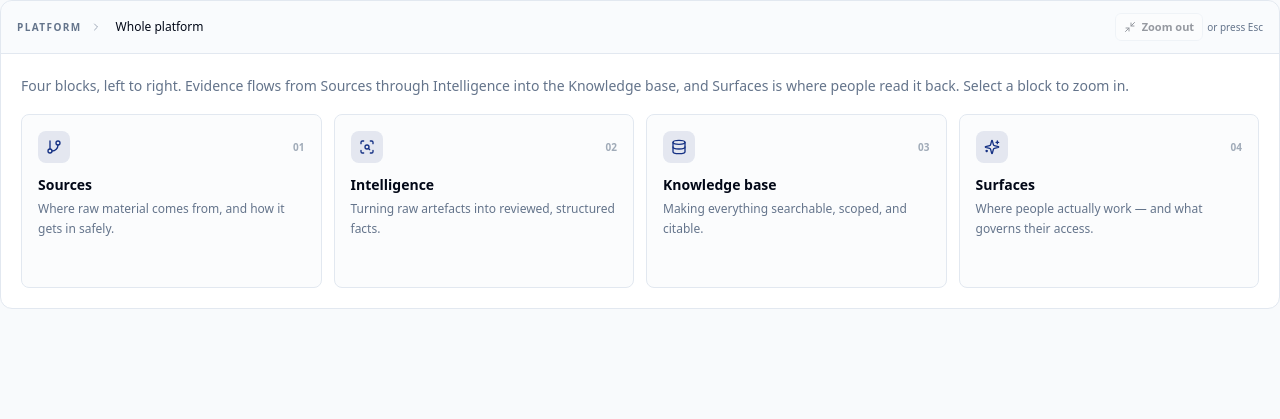
Scenario: ArchitectureExplorer › keeps a breadcrumb back to every level already visited
Click the text "Surfaces" at (1005, 184), box [976, 175, 1035, 194]
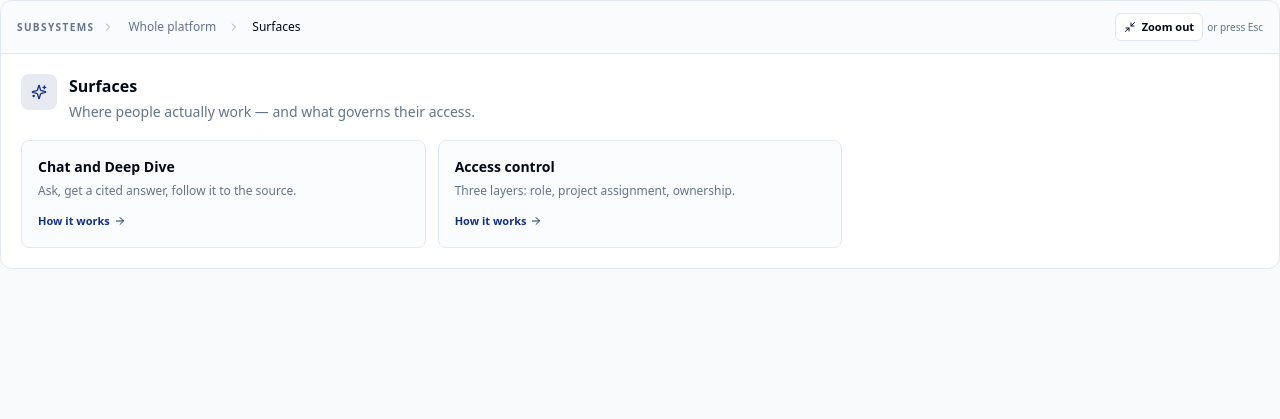
Click the text "Access control" at (505, 166), box [455, 157, 555, 176]
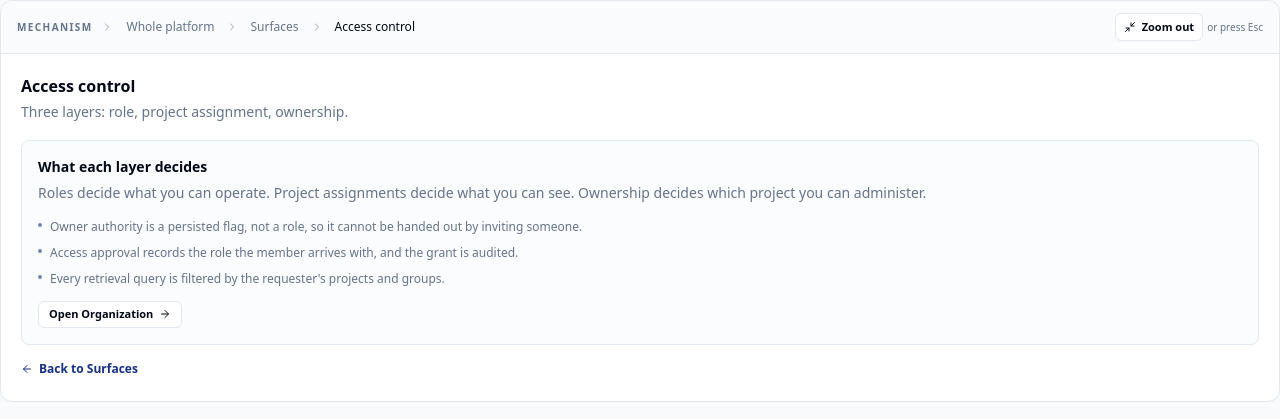
Click the button "Surfaces" at (275, 27), box [244, 17, 305, 37]
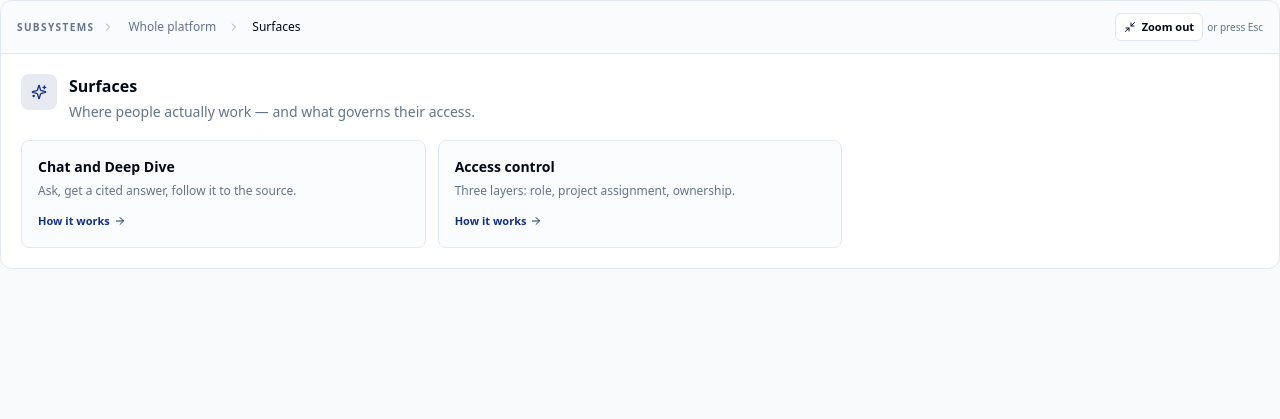
Check: the text "Chat and Deep Dive" is shown, box [38, 157, 175, 176]
Click the button "Whole platform" at (172, 27), box [122, 17, 222, 37]
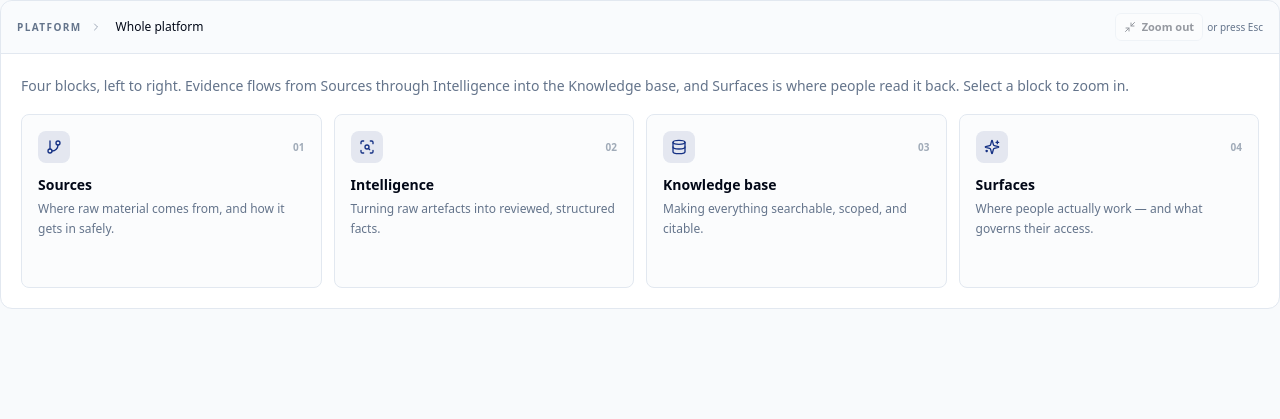
Check: the text "Intelligence" is shown, box [350, 175, 434, 194]
